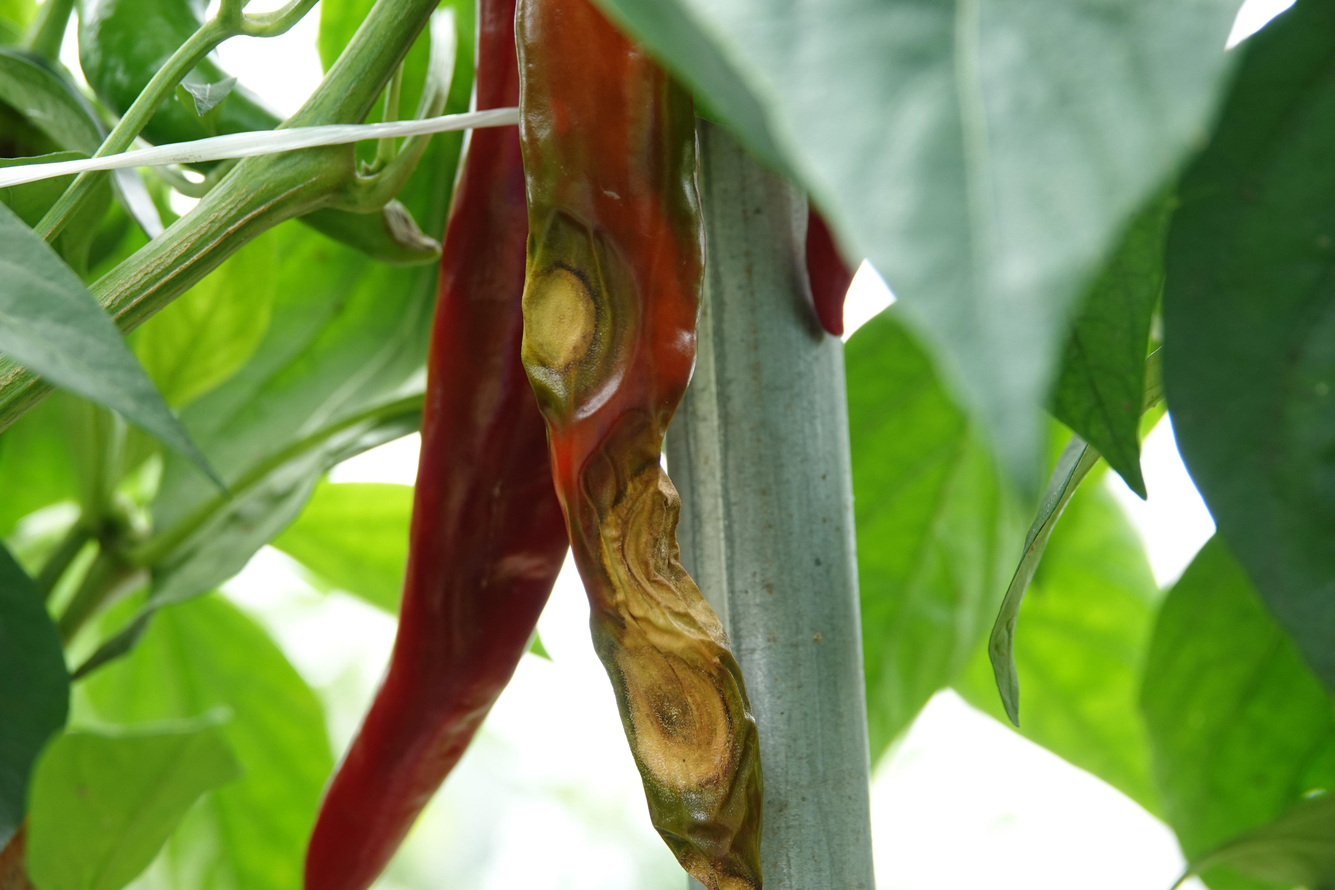Buah Cabai Sehat: (310, 0, 566, 890)
Busuk Buah Antraknosa: (509, 0, 767, 888)
